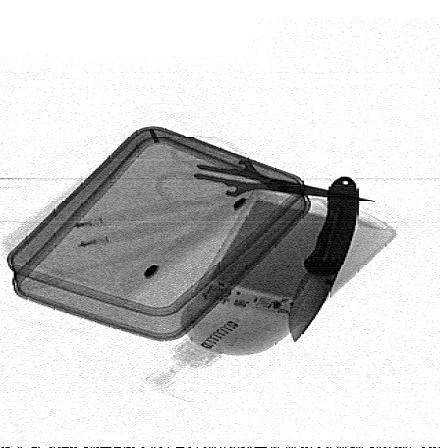Powerbank: (191, 189, 352, 322), (288, 176, 359, 342)
Scissors: (151, 136, 378, 207)
